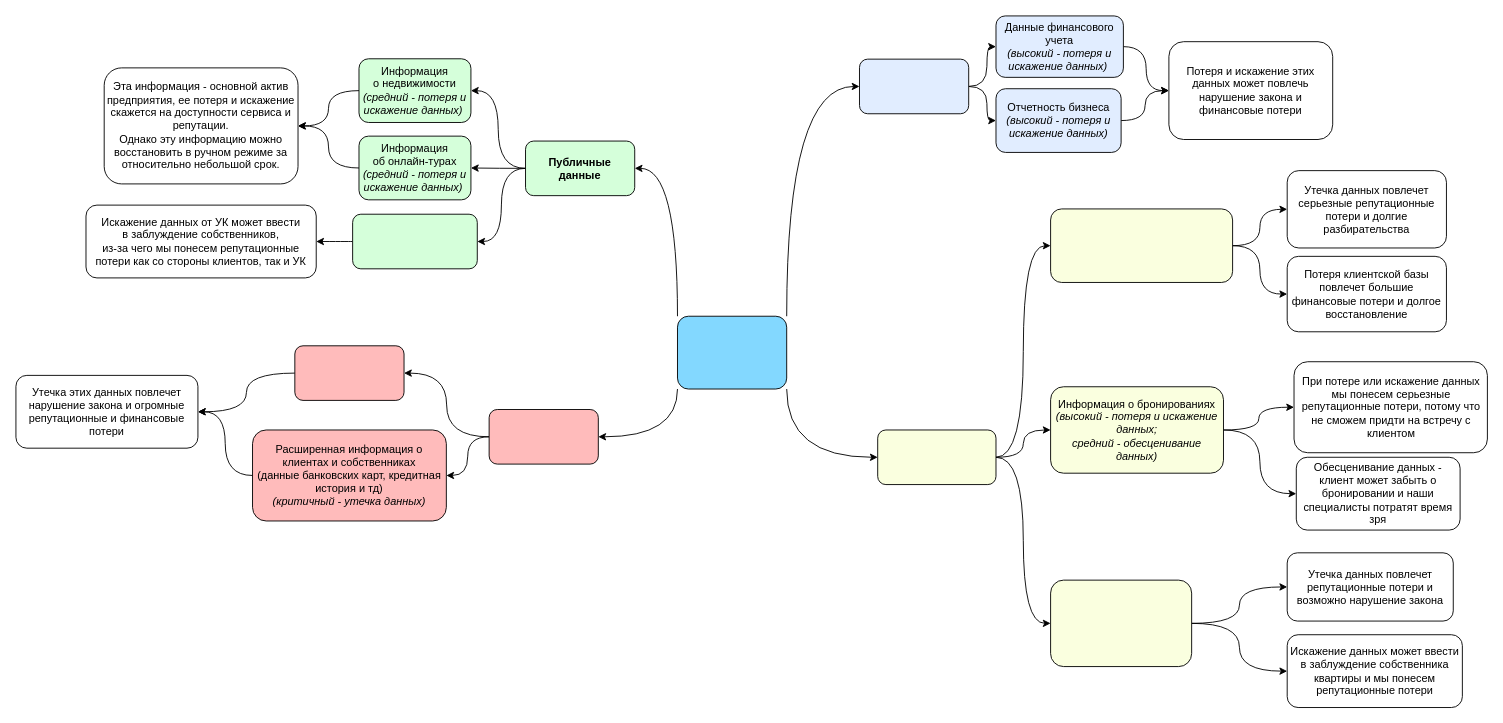
This 1503x723 diagram has some shape labels left out. The centre of each missing label's shape, as x and y in pixels:
Безопасность данных: (x=732, y=352)
Внутренние данные: (x=914, y=86)
Информация о сделках (критичный - утечка данных): (x=349, y=372)
Информация об услугах ЖКХ (высокий - утечка данных; средний - искажение данных): (x=1121, y=623)
Информация от УК, и про кап. ремонт (средний - искажение данных): (x=414, y=241)
Контактные данные клиентов и собственников (высокий - утечка и потеря данных): (x=1141, y=245)
Конфиденциальные данные: (x=936, y=457)
Секретные данные: (x=543, y=436)
